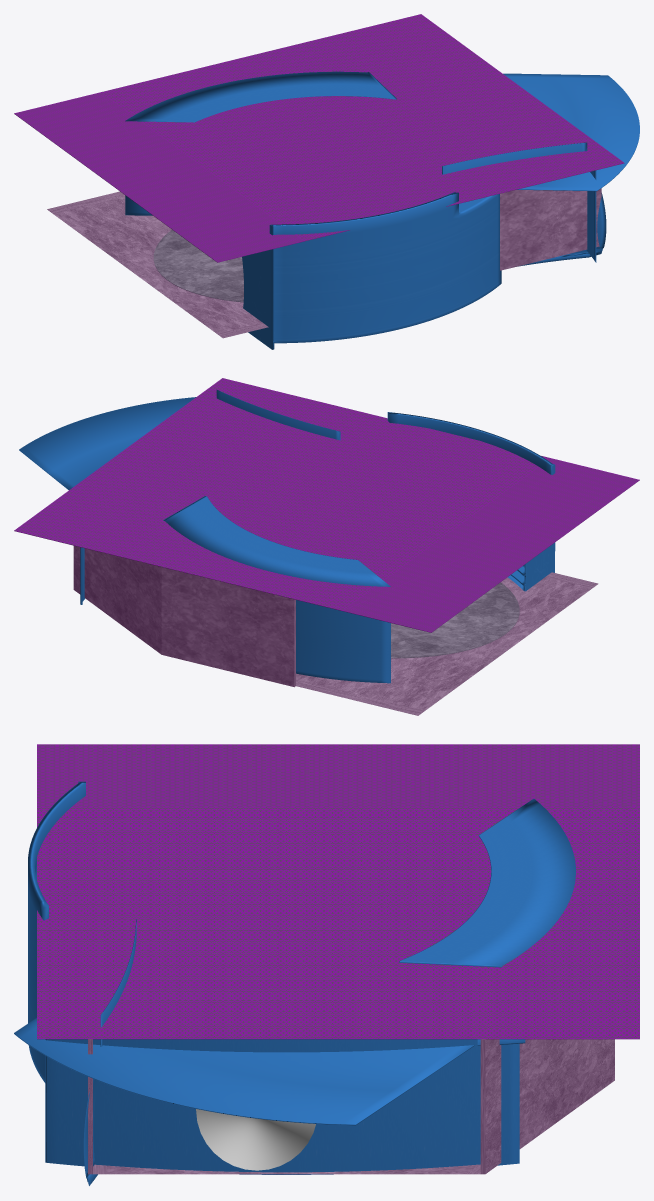
The model's file is 1res_08042026.glb.
The picture shows the model from 3 angles, top to bottom: view 1: azimuth 30°, elevation 25°; view 2: azimuth 150°, elevation 25°; view 3: azimuth 270°, elevation 25°; orthographic projection. The views are drawn at different scales.
Visible parts, largest first — view 1: Cube.005, shkaf2, Cube.002, shkaf3, skaf1, Cylinder, Cube; view 2: Cube.005, Cube.002, skaf1, shkaf3, Cylinder, shkaf2; view 3: Cube.005, Cube, shkaf3, skaf1, Cube.002, Cone, shkaf2.
Part boxes in pixels (x1,y1,x2,y2): Cube.005: (14, 14, 624, 262); shkaf2: (242, 142, 606, 349); Cube.002: (47, 188, 601, 338); shkaf3: (503, 73, 639, 191); skaf1: (125, 71, 396, 215); Cylinder: (153, 229, 243, 302); Cube: (586, 170, 596, 262); Cube.005: (14, 378, 639, 632); Cube.002: (73, 546, 598, 715); skaf1: (163, 496, 390, 683); shkaf3: (19, 397, 195, 489); Cylinder: (391, 582, 519, 658); shkaf2: (216, 390, 555, 591); Cube.005: (37, 744, 639, 1039); Cube: (45, 1039, 519, 1174); shkaf3: (14, 1018, 525, 1125); skaf1: (399, 798, 575, 967); Cube.002: (88, 1039, 614, 1174); Cone: (196, 1109, 315, 1170); shkaf2: (28, 781, 136, 1185).
Size of the model in its own units: 45.93 by 10.84 by 33.73.
Materials: 10 (10 with a texture image).
